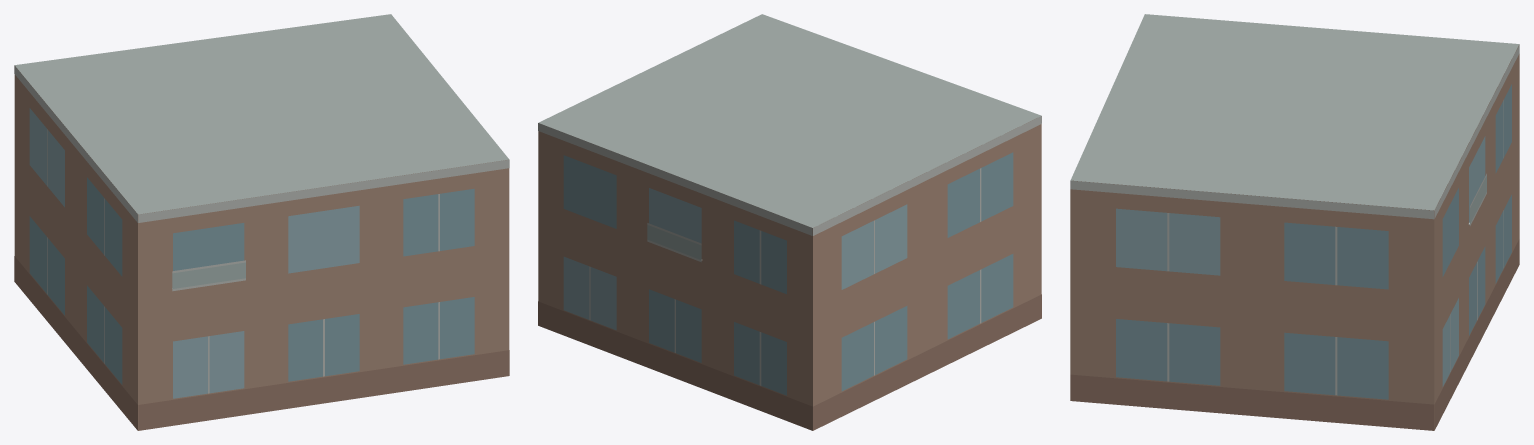
Rendered from survey-upis-32665586.glb.
3 renders of one model, left to right at view 1: azimuth 30°, elevation 25°; view 2: azimuth 150°, elevation 25°; view 3: azimuth 270°, elevation 25°, orthographic. The views are drawn at different scales.
Visible parts, largest first — view 1: survey-upis-32665586.tmp; view 2: survey-upis-32665586.tmp; view 3: survey-upis-32665586.tmp.
Boxes of the visible parts, x1=… form: survey-upis-32665586.tmp: x1=14, y1=14, x2=509, y2=430; survey-upis-32665586.tmp: x1=538, y1=14, x2=1041, y2=430; survey-upis-32665586.tmp: x1=1070, y1=14, x2=1519, y2=430.
Bounding box in the file's own units: 11.67 × 6.1 × 11.28.
